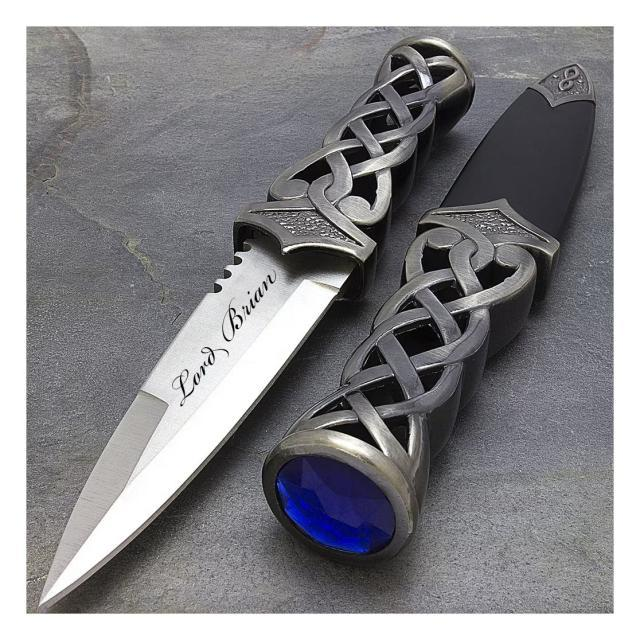short sword: (28, 32, 460, 618)
